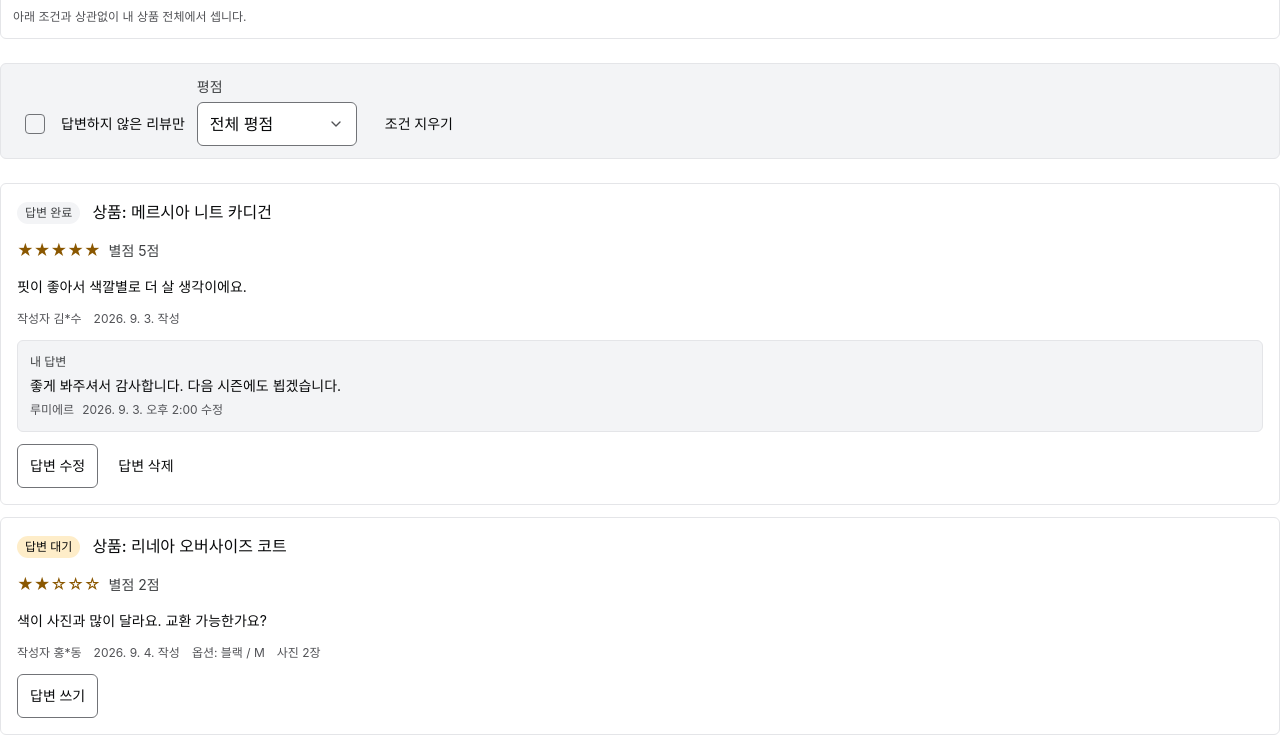
it: 답변 쓰기 (F1) › refuses an empty answer without asking the API
This screenshot has width=1280, height=751.
(page scrolled)
Click the button "답변 쓰기" at {"x": 58, "y": 696}, box left=17, top=674, right=98, bottom=718
(page scrolled)
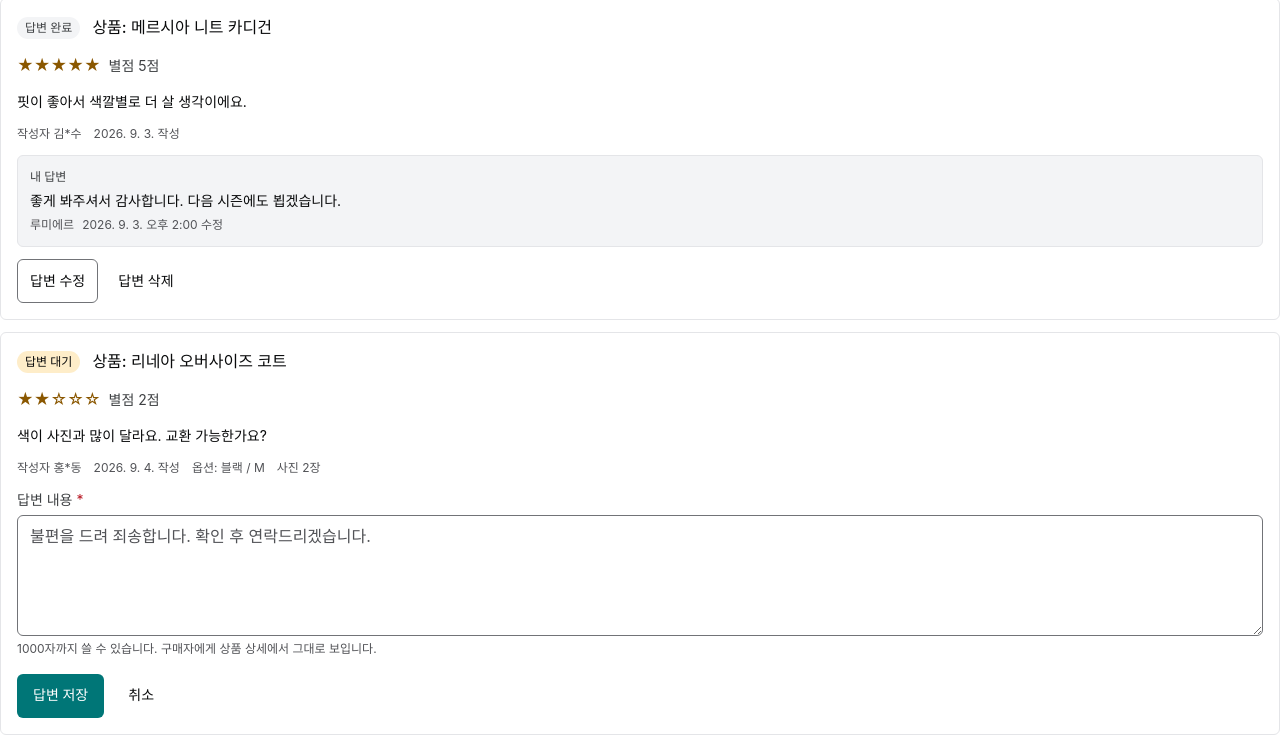
Click the button "답변 저장" at {"x": 61, "y": 696}, box left=17, top=674, right=104, bottom=718
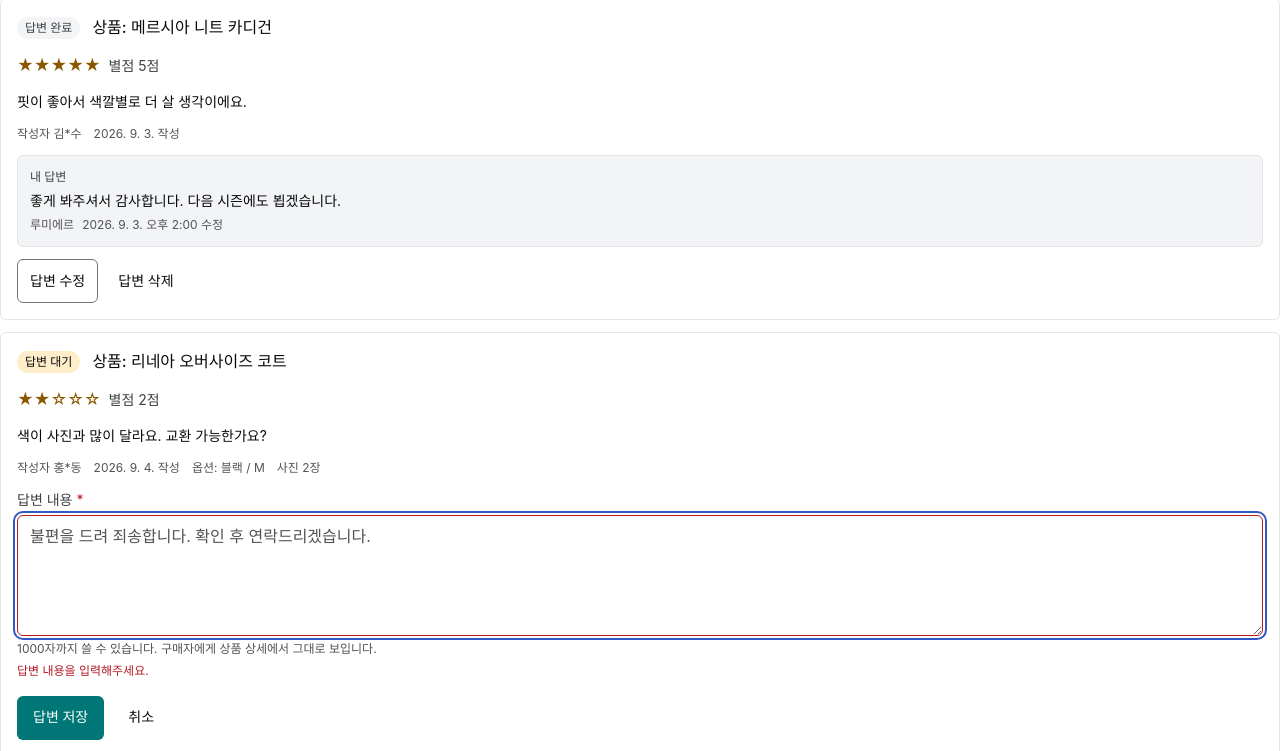
Result: the text "답변 내용을 입력해주세요." is shown at left=17, top=663, right=149, bottom=678
